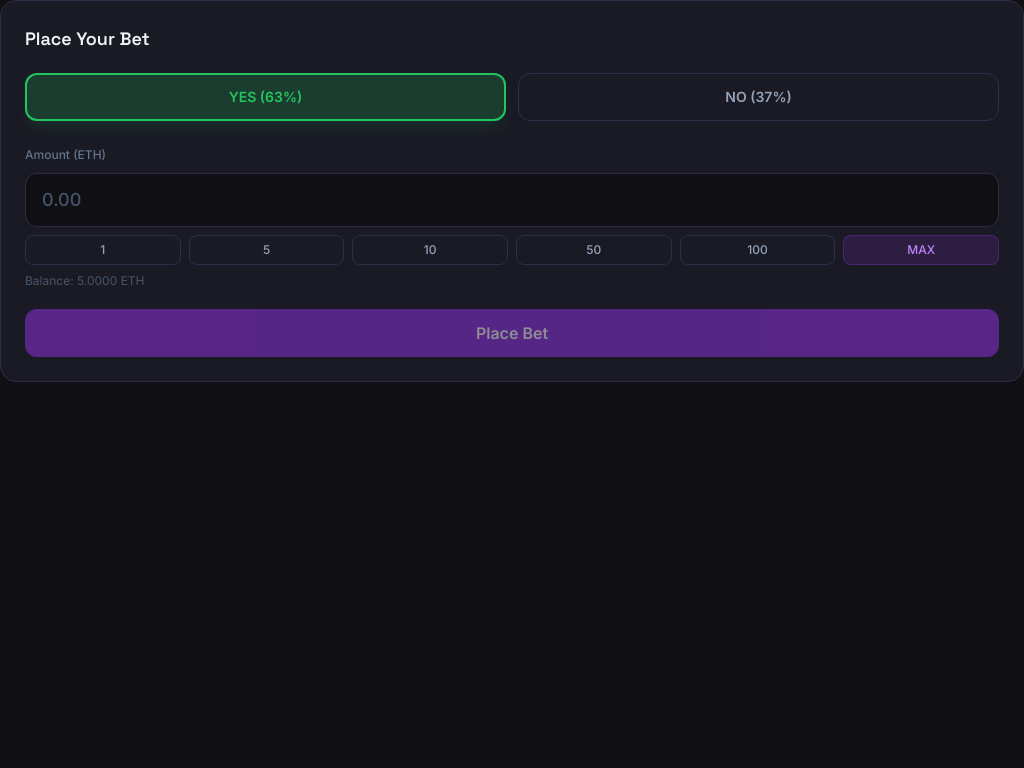
it: BettingPanel › shows insufficient balance validation
The width and height of the screenshot is (1024, 768).
Step 1. Type "10" into the number field with placeholder "0.00" → (512, 200), box [25,173,999,227]
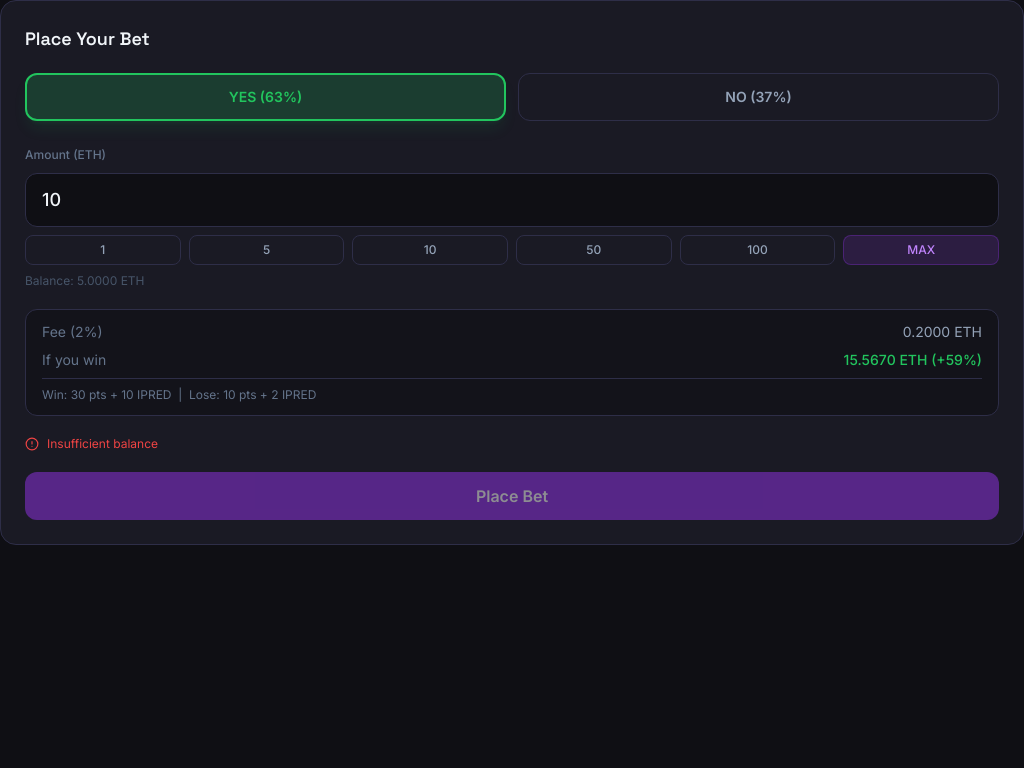
Expected: the text "Insufficient balance" is shown, [25,436,158,451]
